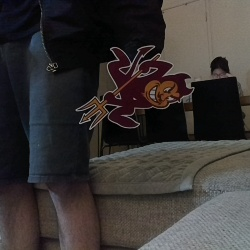sparky: (74, 44, 194, 130)
